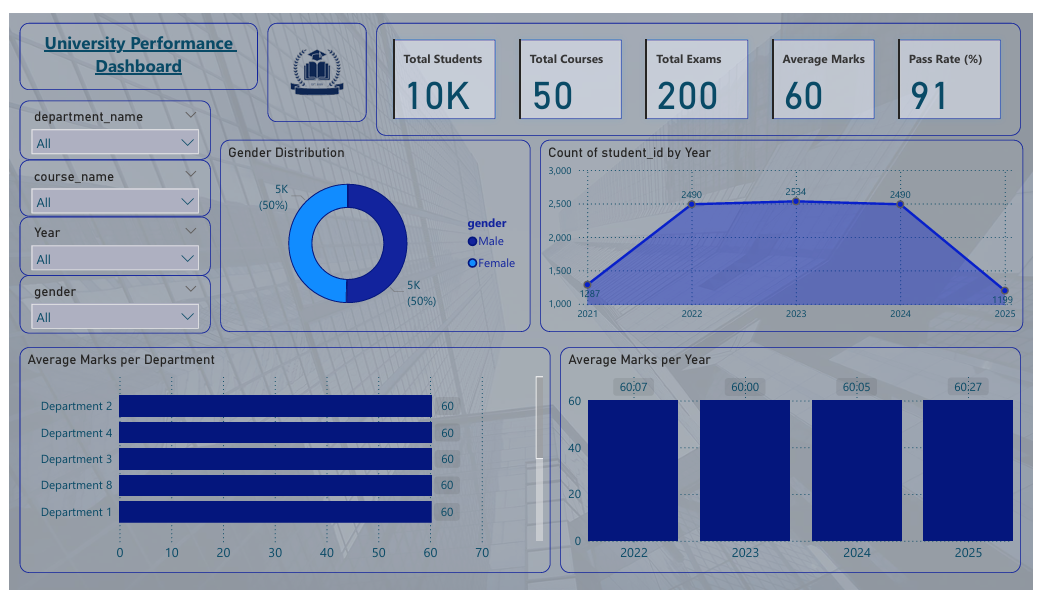

What the dashboard file says about the page in this screenshot:
{"tool":"powerbi","page":{"name":"Overview","canvas":[1280,720],"ordinal":0},"visuals":[{"type":"textbox","box":[13.4,11.8,297.3,84],"z":0},{"type":"cardVisual","fields":{"Data":["students.Total Students","courses.Total Courses","exams.Total Exams","marks.Average Marks","marks.Pass Rate (%)"]},"box":[458.6,11.8,806.3,141.1],"z":1000},{"type":"barChart","title":"Average Marks per Department","fields":{"Category":["departments1.department_name"],"Y":["marks.Average Marks"]},"box":[13.4,416.6,663.5,282.2],"z":2000},{"type":"donutChart","title":"Gender Distribution","fields":{"Category":["students.gender"],"Y":["CountNonNull(students.student_id)"]},"box":[263.7,157.9,388,240.2],"z":3000},{"type":"lineChart","fields":{"Category":["students.enrollment_date.Variation.Date Hierarchy.Year"],"Y":["CountNonNull(students.student_id)"]},"box":[663.5,157.9,604.7,240.2],"z":4000},{"type":"columnChart","title":"Average Marks per Year","fields":{"Category":["exams.exam_date.Variation.Date Hierarchy.Year","exams.exam_date.Variation.Date Hierarchy.Quarter","exams.exam_date.Variation.Date Hierarchy.Month","exams.exam_date.Variation.Date Hierarchy.Day"],"Y":["marks.Average Marks"]},"box":[688.7,416.6,576.2,282.2],"z":5000},{"type":"slicer","fields":{"Values":["departments1.department_name"]},"box":[13,109.4,239,73.4],"z":6000},{"type":"slicer","fields":{"Values":["courses.course_name"]},"box":[13.4,183.1,238.5,70.6],"z":7000},{"type":"slicer","fields":{"Values":["students.gender"]},"box":[13,326.9,239,73.4],"z":8000},{"type":"slicer","fields":{"Values":["students.enrollment_date.Variation.Date Hierarchy.Year"]},"box":[13.4,253.6,238.5,73.9],"z":9000},{"type":"image","box":[322.5,11.8,124.3,124.3],"z":10000}]}

Visuals, with their boxes in screenshot pixels (x1, y1, x2, y2), scaled from the page's 1280x720 canvas onto the 1045x597 screenshot:
textbox: bbox=(11, 10, 254, 79)
cardVisual - students.Total Students x courses.Total Courses: bbox=(374, 10, 1033, 127)
"Average Marks per Department" barChart: bbox=(11, 345, 553, 579)
"Gender Distribution" donutChart: bbox=(215, 131, 532, 330)
lineChart - students.enrollment_date.Variation.Date Hierarchy.Year x CountNonNull(students.student_id): bbox=(542, 131, 1035, 330)
"Average Marks per Year" columnChart: bbox=(562, 345, 1033, 579)
slicer - departments1.department_name: bbox=(11, 91, 206, 152)
slicer - courses.course_name: bbox=(11, 152, 206, 210)
slicer - students.gender: bbox=(11, 271, 206, 332)
slicer - students.enrollment_date.Variation.Date Hierarchy.Year: bbox=(11, 210, 206, 272)
image: bbox=(263, 10, 365, 113)
